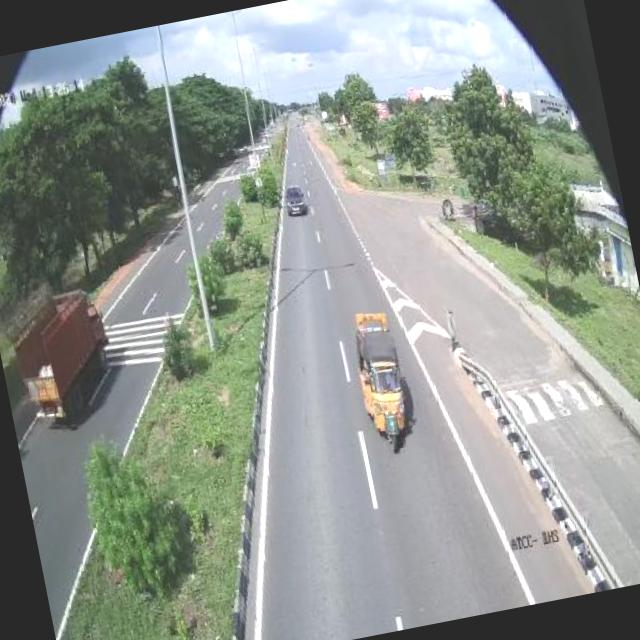car: (278, 177, 314, 228)
